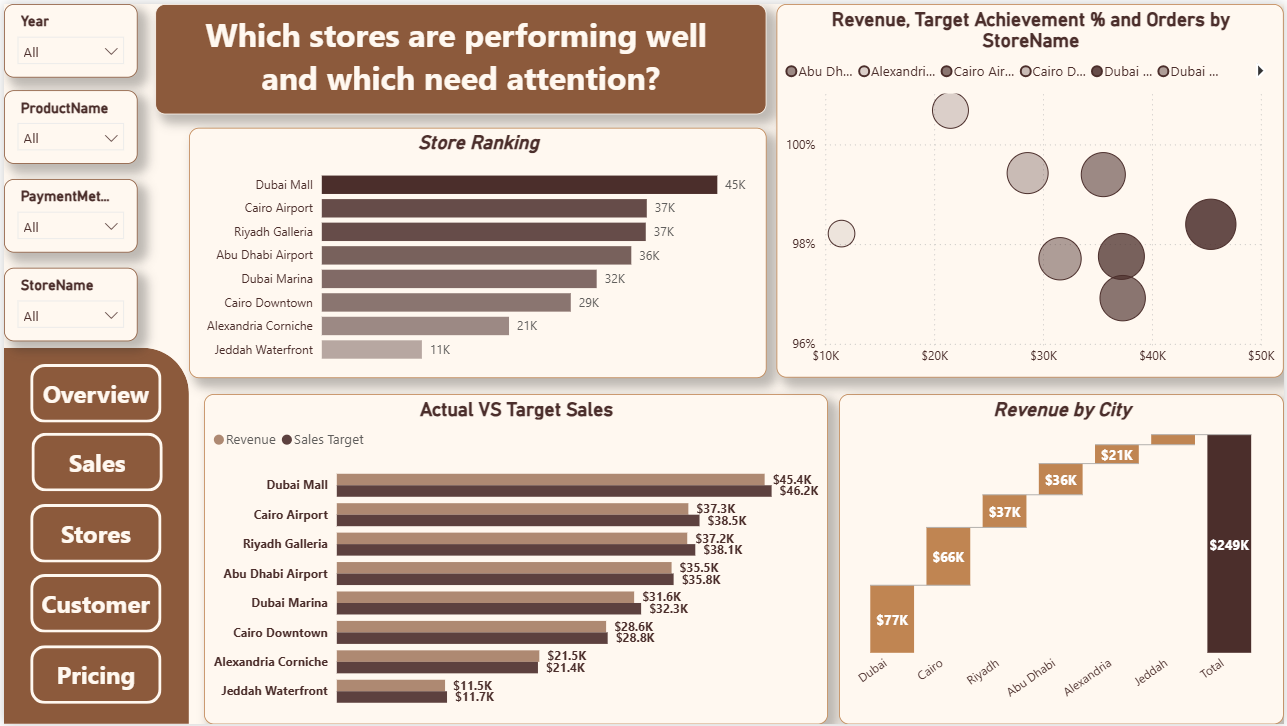

This screenshot's page, from the dashboard's own definition file:
{"tool":"powerbi","page":{"name":"Stores Performance","canvas":[1280,720],"ordinal":2},"visuals":[{"type":"slicer","fields":{"Values":["Calendar.Year"]},"box":[0,0,133.8,73.8],"z":0},{"type":"textbox","box":[151.2,0,611.2,110],"z":1000},{"type":"shape","box":[0,343.8,185,376.2],"z":2000},{"type":"clusteredBarChart","title":"Store Ranking","fields":{"Category":["Stores.StoreName"],"Y":["_Measures.Revenue"]},"box":[185,123.8,577.5,250],"z":3000},{"type":"clusteredBarChart","title":"Actual VS Target Sales","fields":{"Y":["_Measures.Revenue","_Measures.Sales Target"],"Category":["Stores.StoreName"]},"box":[200,390,623.8,330],"z":4000},{"type":"slicer","fields":{"Values":["Products.ProductName"]},"box":[0,86.2,133.8,73.8],"z":5000},{"type":"slicer","fields":{"Values":["Sales.PaymentMethod"]},"box":[0,175,133.8,73.8],"z":6000},{"type":"slicer","fields":{"Values":["Stores.StoreName"]},"box":[0,263.8,133.8,73.8],"z":7000},{"type":"actionButton","title":"Revenue","box":[26.2,360,131.2,58.8],"z":8000},{"type":"waterfallChart","fields":{"Category":["Stores.Region","Stores.Country","Stores.City"],"Y":["_Measures.Revenue"]},"box":[835,390,445,330],"z":10000},{"type":"actionButton","title":"Revenue","box":[27.5,428.8,131.2,58.8],"z":11000},{"type":"actionButton","title":"Revenue","box":[26.2,500,131.2,58.8],"z":12000},{"type":"actionButton","title":"Revenue","box":[26.2,570,131.2,58.8],"z":13000},{"type":"scatterChart","fields":{"X":["_Measures.Revenue"],"Y":["_Measures.Target Achievement %"],"Size":["_Measures.Orders"],"Series":["Stores.StoreName"]},"box":[772.5,0,507.5,373.8],"z":14000},{"type":"actionButton","title":"Revenue","box":[26.2,641.2,131.2,58.8],"z":15000}]}

Visuals, with their boxes in screenshot pixels (x1, y1, x2, y2), scaled from the page's 1280x720 canvas onto the 1287x726 screenshot:
slicer - Calendar.Year: 0:0:135:74
textbox: 152:0:767:111
shape: 0:347:186:725
"Store Ranking" clusteredBarChart: 186:125:767:377
"Actual VS Target Sales" clusteredBarChart: 201:393:828:725
slicer - Products.ProductName: 0:87:135:161
slicer - Sales.PaymentMethod: 0:176:135:251
slicer - Stores.StoreName: 0:266:135:340
"Revenue" actionButton: 26:363:158:422
waterfallChart - Stores.Region x Stores.Country: 840:393:1286:725
"Revenue" actionButton: 28:432:160:492
"Revenue" actionButton: 26:504:158:563
"Revenue" actionButton: 26:575:158:634
scatterChart - _Measures.Revenue x _Measures.Target Achievement %: 777:0:1286:377
"Revenue" actionButton: 26:647:158:706
